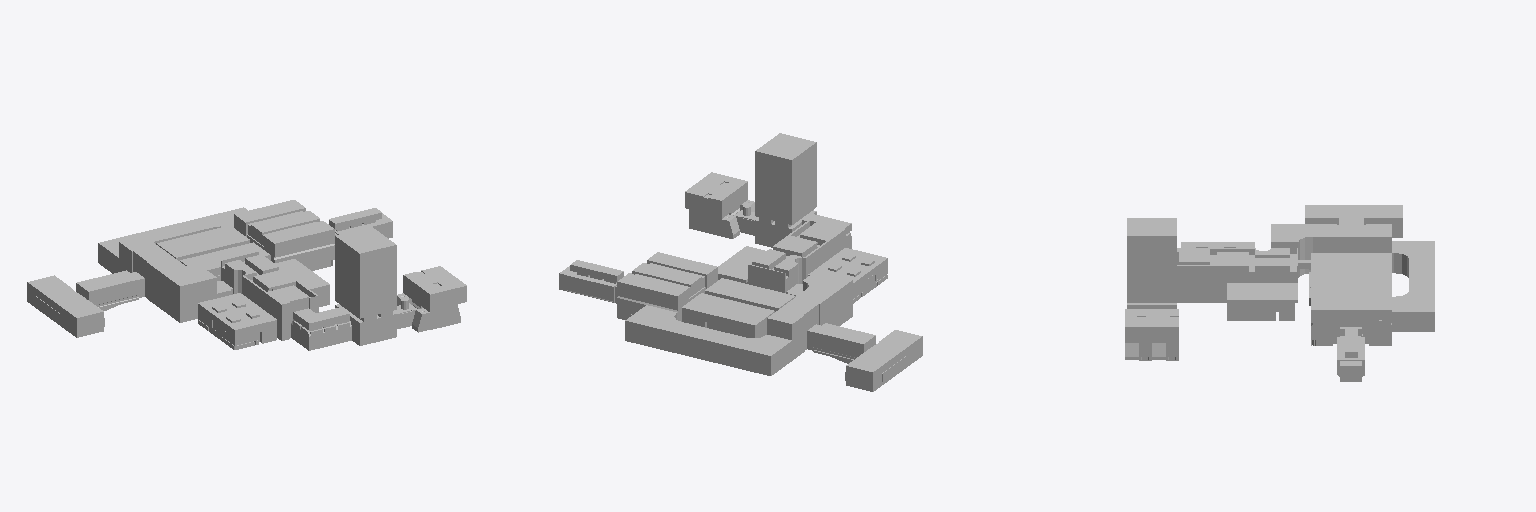
File: anomalousMaterials.obj
3 views of the same model, side by side, from view 1: azimuth 30°, elevation 25°; view 2: azimuth 150°, elevation 25°; view 3: azimuth 270°, elevation 25° (orthographic).
Parts seen in each view (by area): view 1: anomalousMaterials; view 2: anomalousMaterials; view 3: anomalousMaterials.
Part boxes in pixels (x1,y1,x2,y2): anomalousMaterials: (27,200,466,350); anomalousMaterials: (559,133,922,391); anomalousMaterials: (1125,205,1434,381).
Bounding box in the file's own units: 52.5 × 15.39 × 42.06.